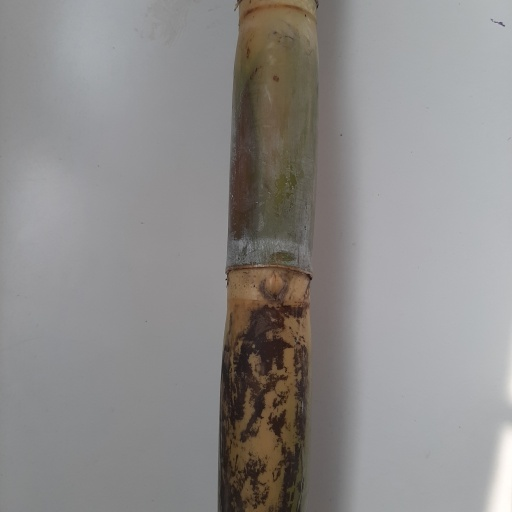Bud: (261, 268, 285, 301)
